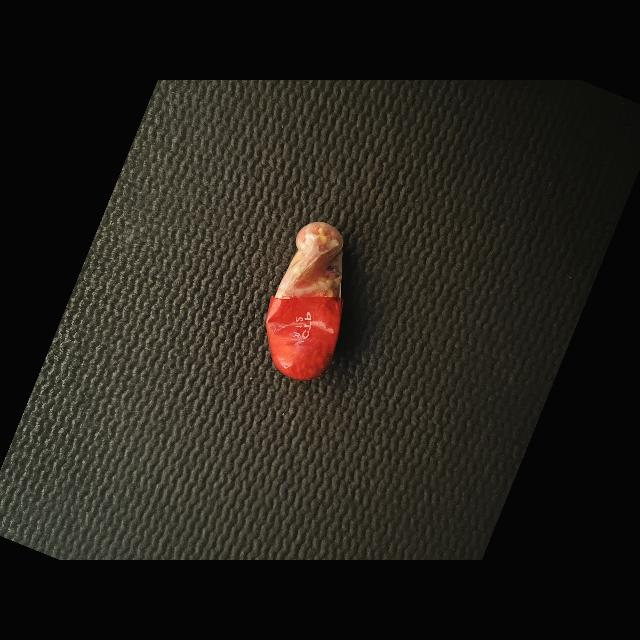Defective Capsule: (266, 222, 344, 380)
